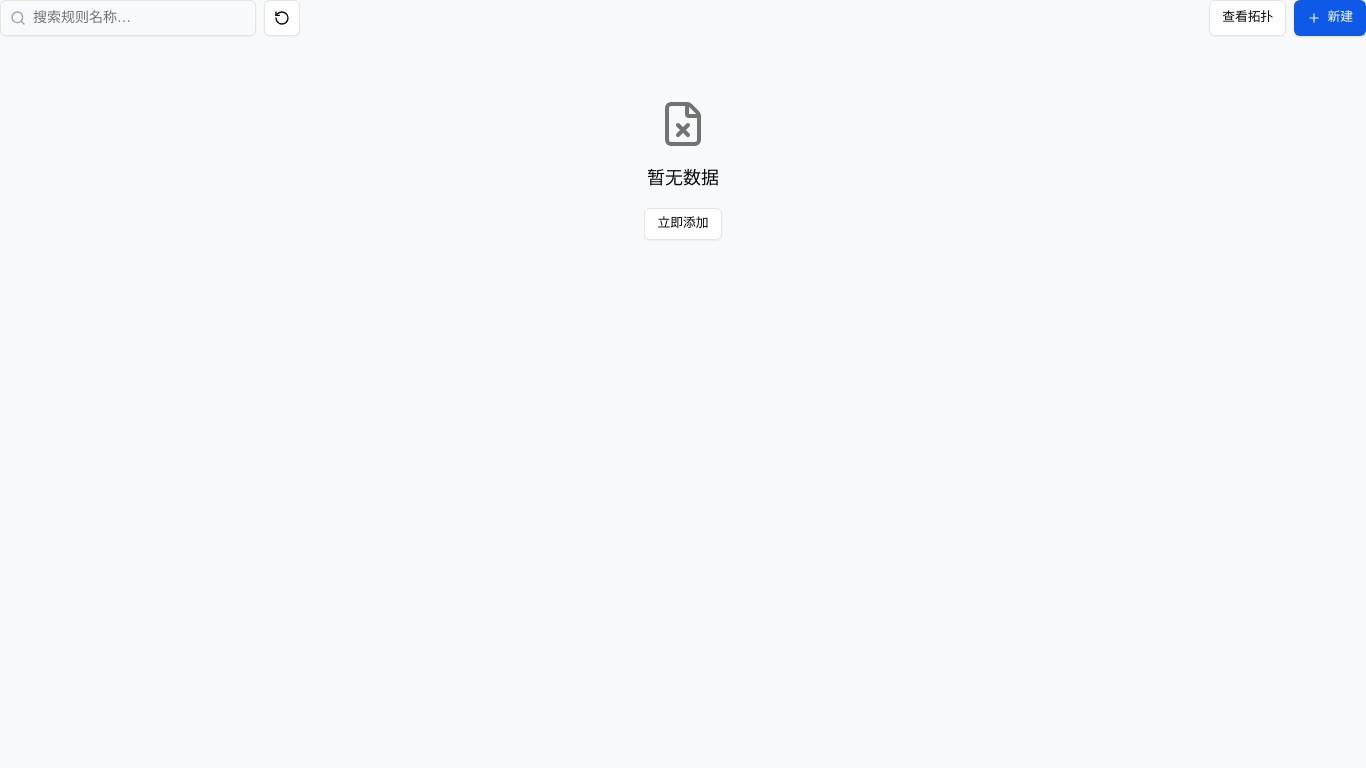
Test: RuleStep drawer › TLS 加密等级控件始终可编辑（真实字段，不再是 mock-only 展示位）
Expected: the element with test id "mr-ob-rule-empty" is shown, [644,100,722,240]
What coordinates should you click on to do the following:
click the button with test id "mr-ob-rule-create"
I would click on:
 (1330, 18)
Its box is [1294,0,1365,36].
(page scrolled)
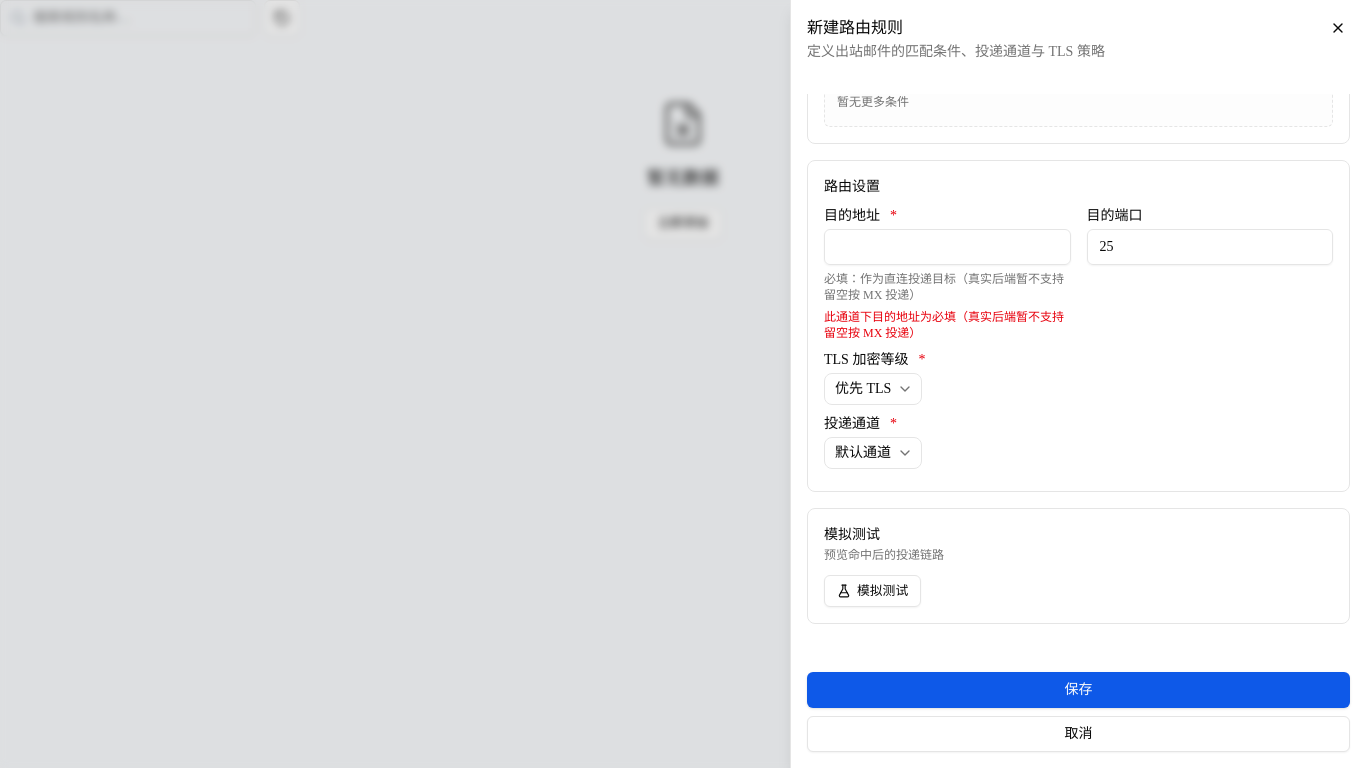
Expected: the dialog with test id "mr-ob-rule-drawer" is shown, [790,0,1365,767]
Expected: the dropdown with test id "mr-ob-rule-tls-level-select" is enabled, [824,373,922,405]
